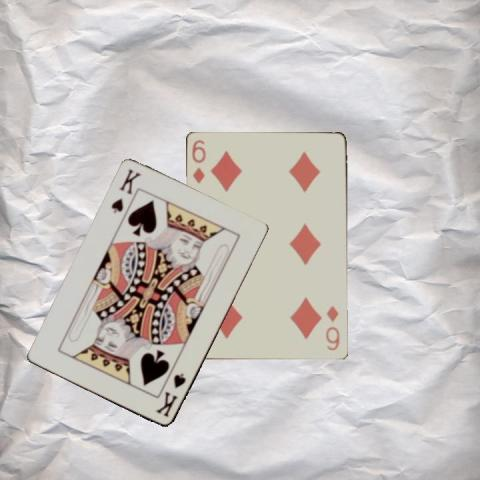6d: (324, 303, 342, 352), (190, 136, 207, 184)
Ks: (108, 166, 143, 216), (154, 370, 188, 419)
